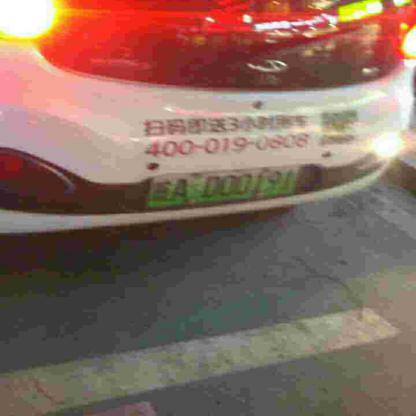lp: (147, 166, 300, 208)
